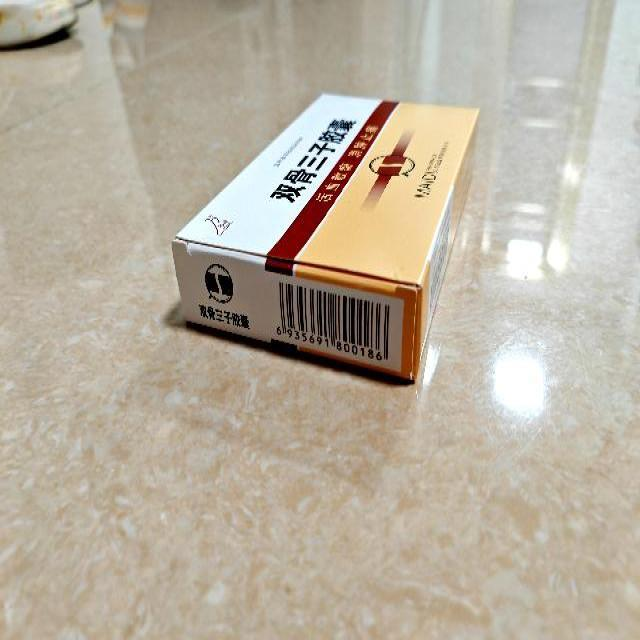box: (175, 90, 480, 382)
